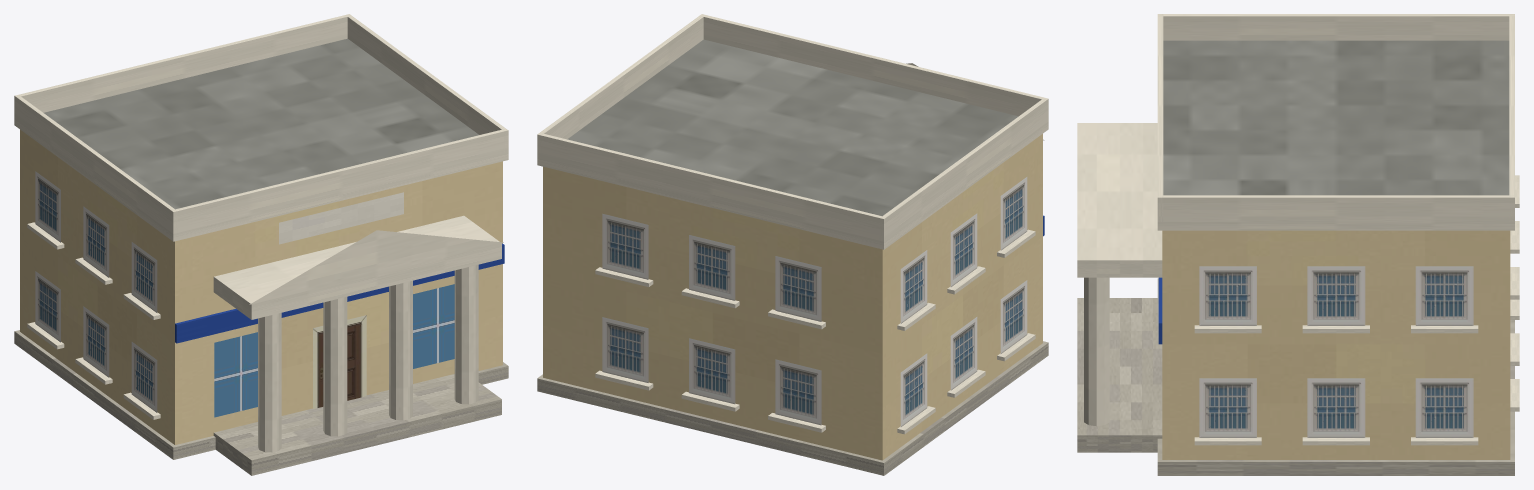
File: bank-cream.glb
3 renders of one model, left to right at view 1: azimuth 30°, elevation 25°; view 2: azimuth 150°, elevation 25°; view 3: azimuth 270°, elevation 25°, orthographic. The views are drawn at different scales.
Visible parts, largest first — view 1: bank-cream, sign_1; view 2: bank-cream; view 3: bank-cream.
Boxes of the visible parts, left/top/right/bottom form: bank-cream: left=14, top=14, right=508, bottom=475; sign_1: left=279, top=192, right=403, bottom=244; bank-cream: left=537, top=14, right=1048, bottom=475; bank-cream: left=1077, top=14, right=1519, bottom=475.
Bounding box in the file's own units: 11.48 × 7.95 × 11.44.
1 material, 1 textured.
